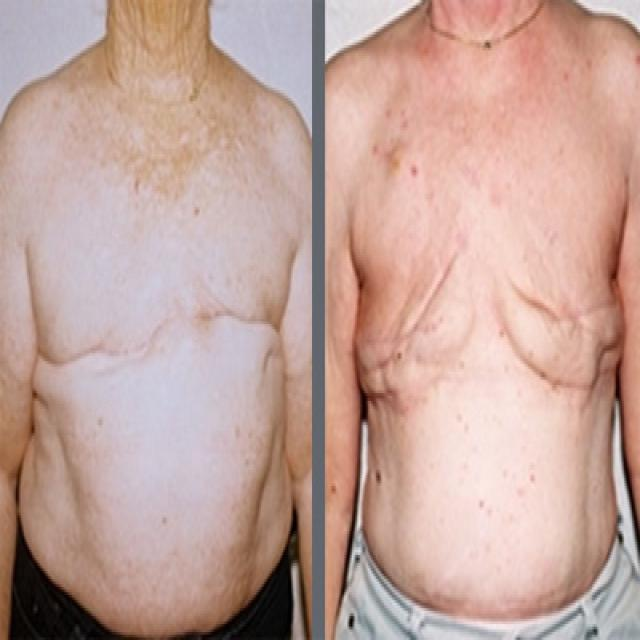Seno herido: (29, 241, 163, 407), (172, 245, 306, 410), (347, 253, 480, 418), (495, 254, 628, 419)
